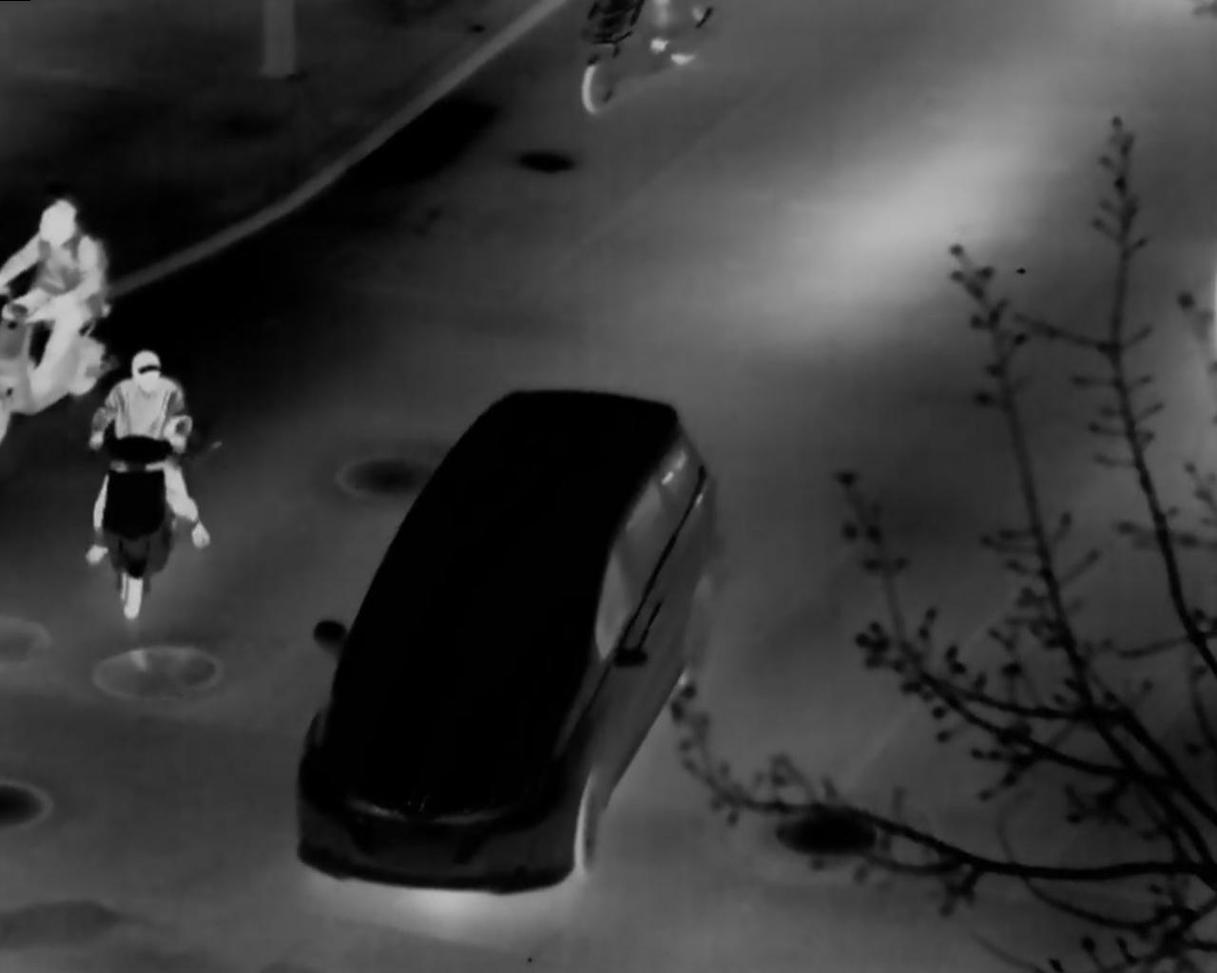person: (97, 346, 200, 530), (24, 194, 103, 396)
